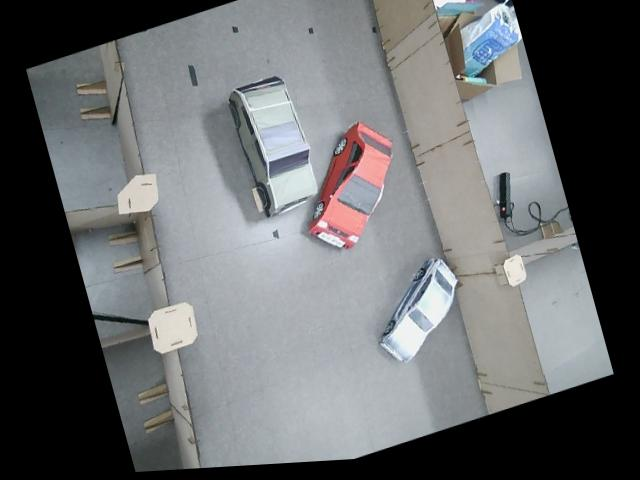car: (283, 107, 417, 262), (223, 65, 326, 225), (358, 247, 474, 371)
